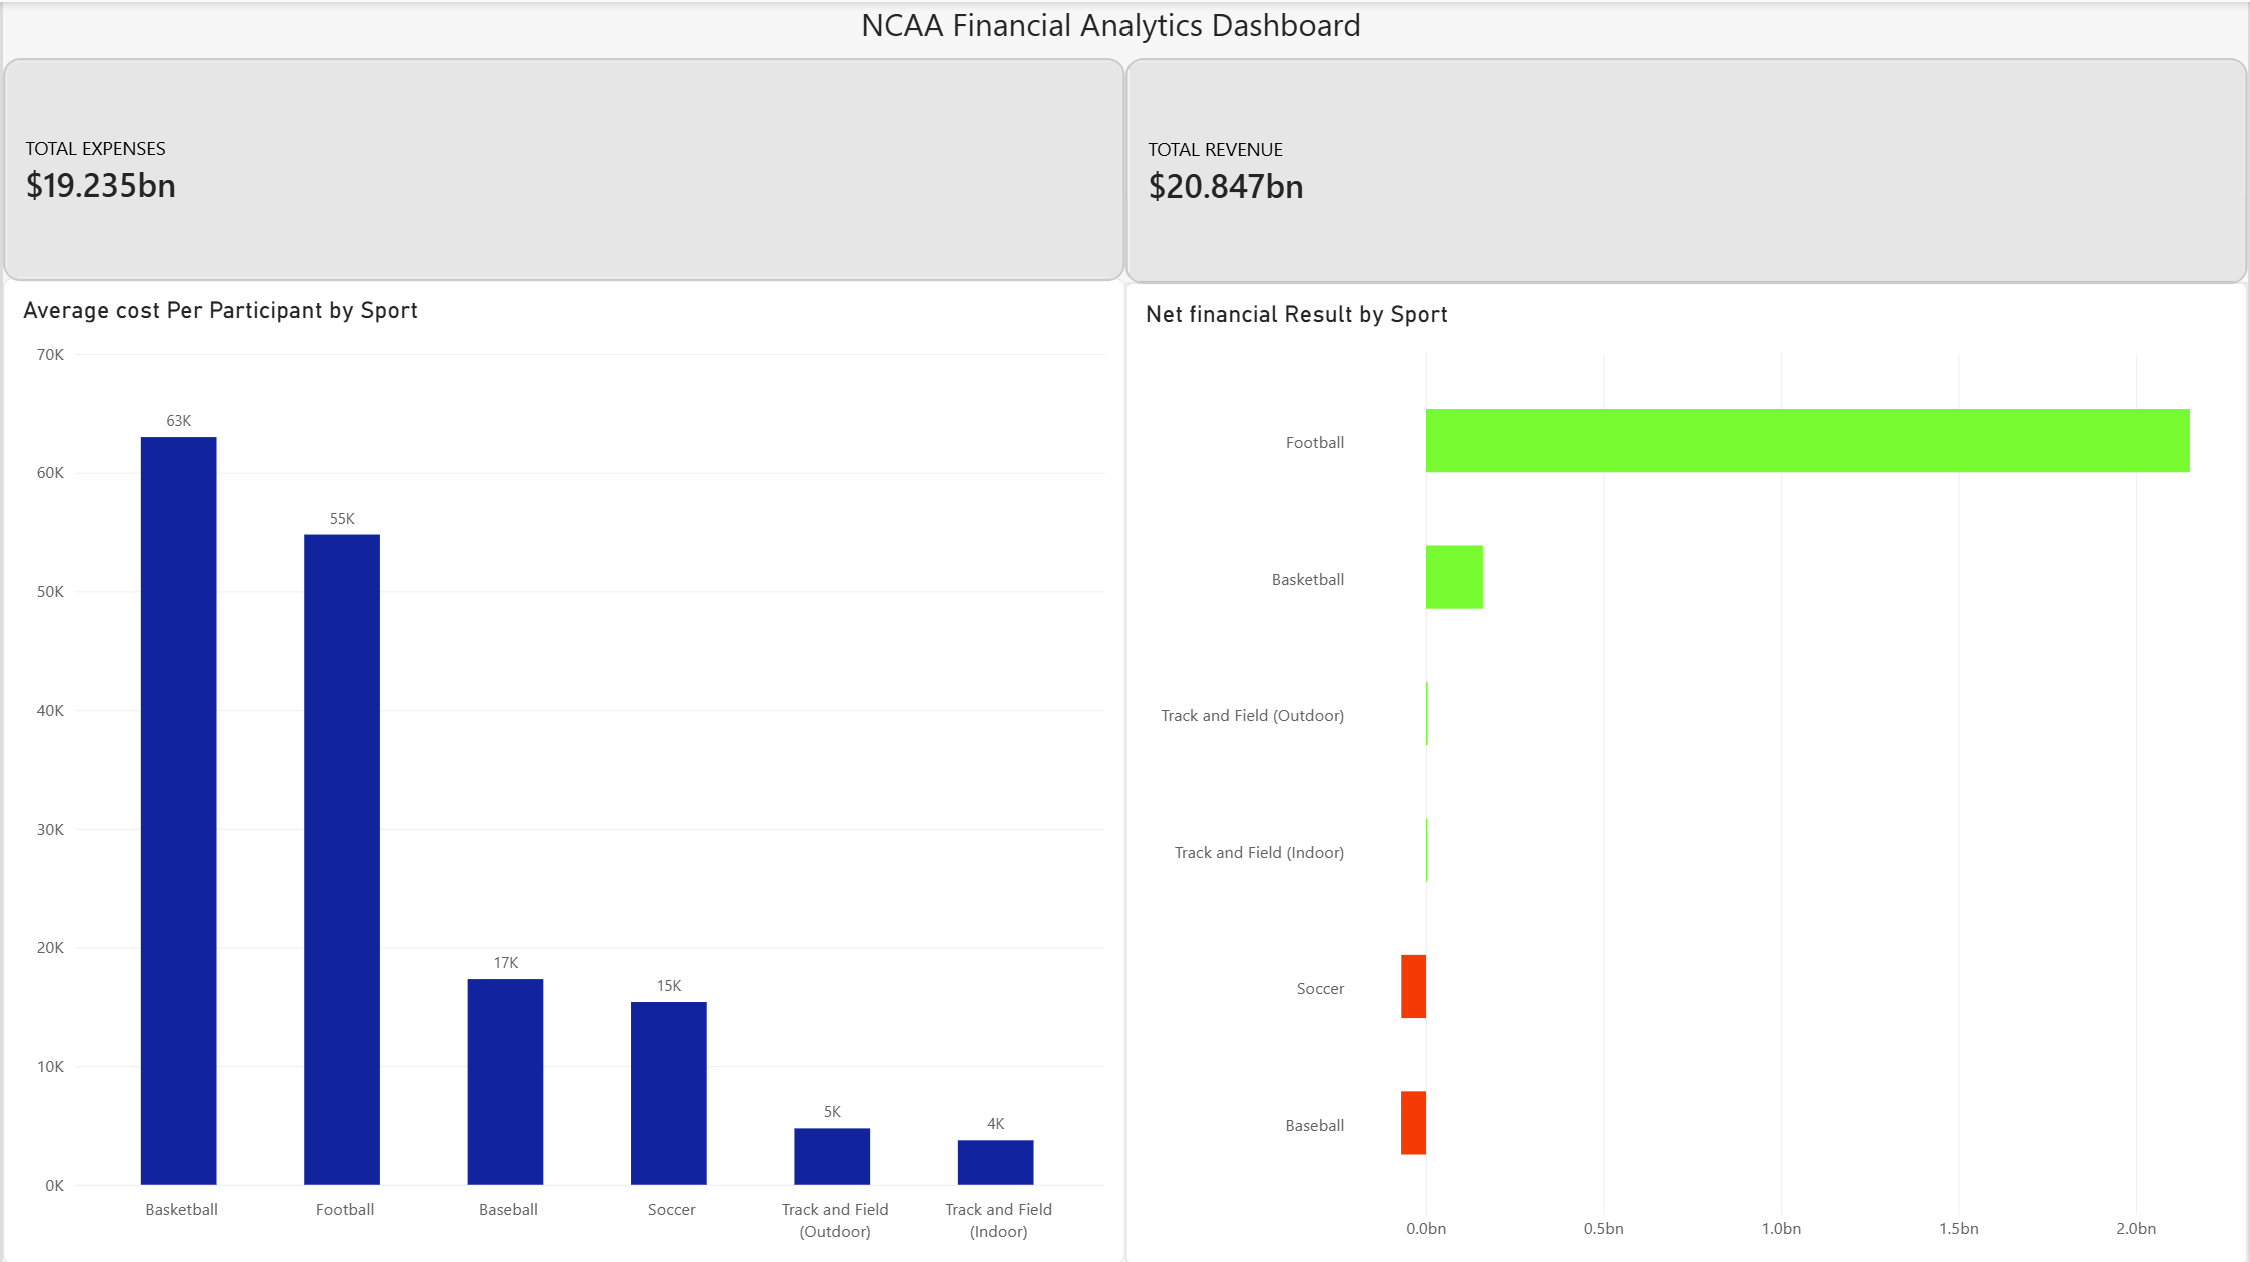

Layout of this report page (visuals, bound fields, positions):
{"tool":"powerbi","page":{"name":"Page 1","canvas":[1920,1080],"ordinal":0},"visuals":[{"type":"clusteredBarChart","fields":{"Category":["schools_cleaned.Sports"],"Y":["Sum(schools_cleaned.Net_Result)"]},"box":[960,238.9,960,841.7],"z":0},{"type":"clusteredColumnChart","fields":{"Category":["schools_cleaned.Sports"],"Y":["Avg(schools_cleaned.Cost_Per_Participants)"]},"box":[0,238.9,960,844],"z":1000},{"type":"cardVisual","fields":{"Data":["Sum(schools_cleaned.TOTAL_REVENUE_ALL)"]},"box":[960,93.3,960,147.9],"z":1001},{"type":"cardVisual","fields":{"Data":["Sum(schools_cleaned.TOTAL_EXPENSE_ALL)"]},"box":[0,93.3,960,145.6],"z":1002},{"type":"textbox","box":[730.2,0,434.5,93.3],"z":1003}]}

Visuals, with their boxes in screenshot pixels (x1, y1, x2, y2), scaled from the page's 1920x1080 canvas onto the 2250x1262 screenshot:
clusteredBarChart - schools_cleaned.Sports x Sum(schools_cleaned.Net_Result): {"x1": 1125, "y1": 279, "x2": 2249, "y2": 1261}
clusteredColumnChart - schools_cleaned.Sports x Avg(schools_cleaned.Cost_Per_Participants): {"x1": 0, "y1": 279, "x2": 1125, "y2": 1261}
cardVisual - Sum(schools_cleaned.TOTAL_REVENUE_ALL): {"x1": 1125, "y1": 109, "x2": 2249, "y2": 282}
cardVisual - Sum(schools_cleaned.TOTAL_EXPENSE_ALL): {"x1": 0, "y1": 109, "x2": 1125, "y2": 279}
textbox: {"x1": 856, "y1": 0, "x2": 1365, "y2": 109}
